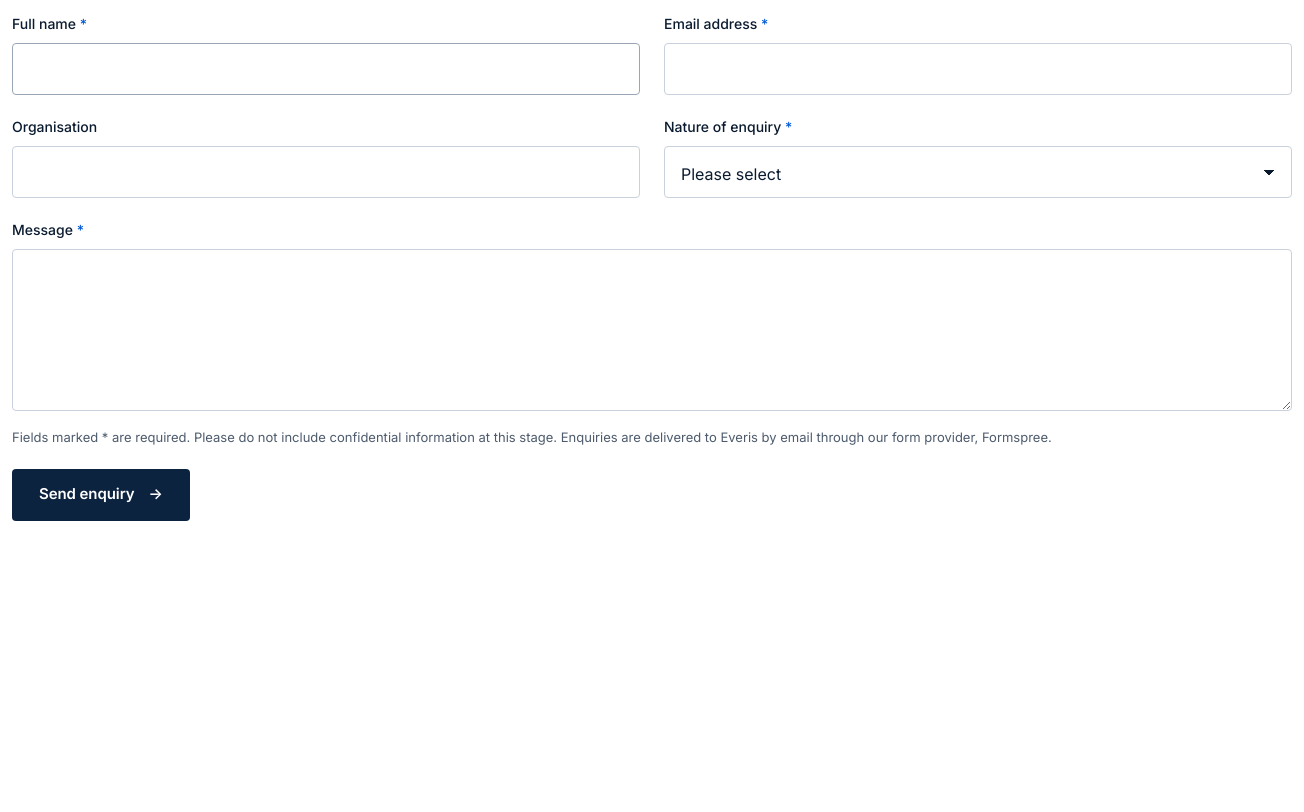
Test: enquiry form with a Formspree endpoint › posts the enquiry, confirms it and clears the form
This screenshot has width=1304, height=812.
Type "Ada Obi" into the field labelled "Full name *" at (326, 69), box [12,43,640,95]
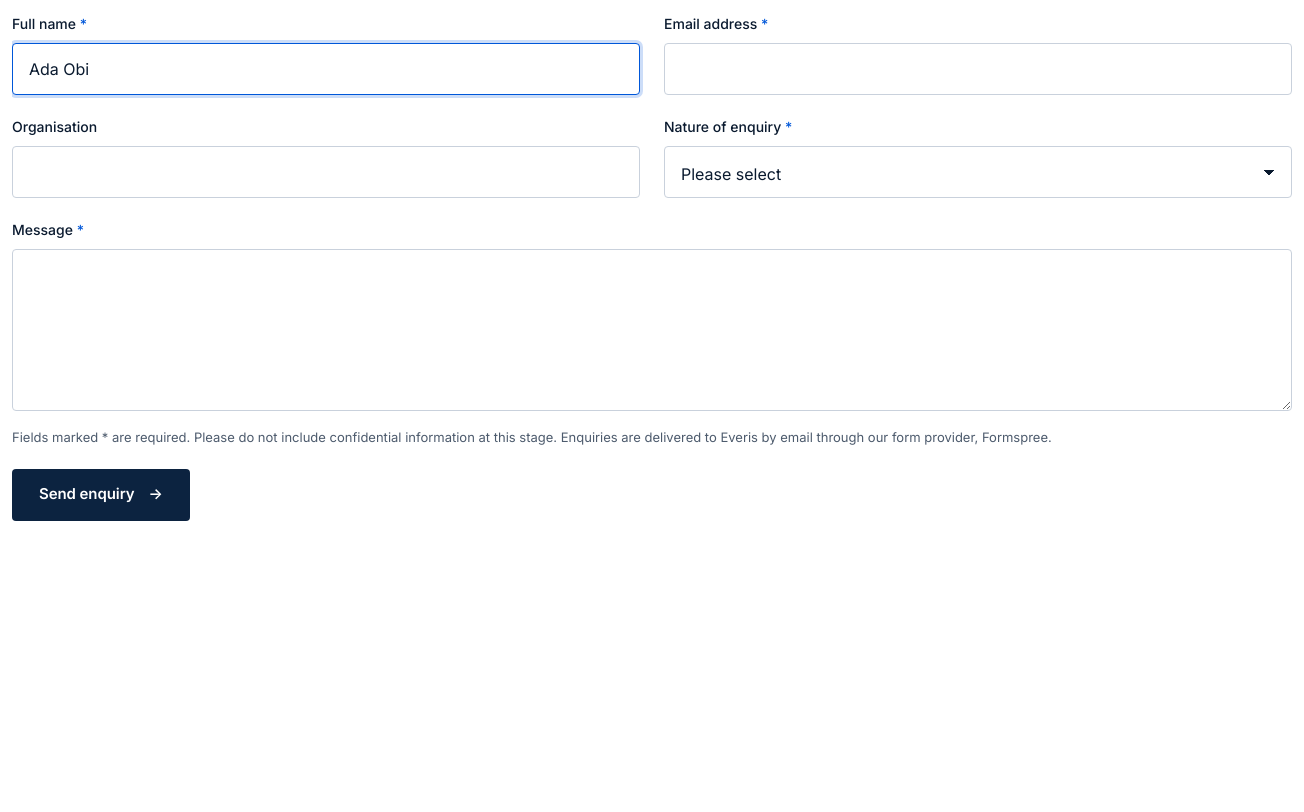
Type "ada@example.com" into the field labelled "Email address *" at (978, 69), box [664,43,1292,95]
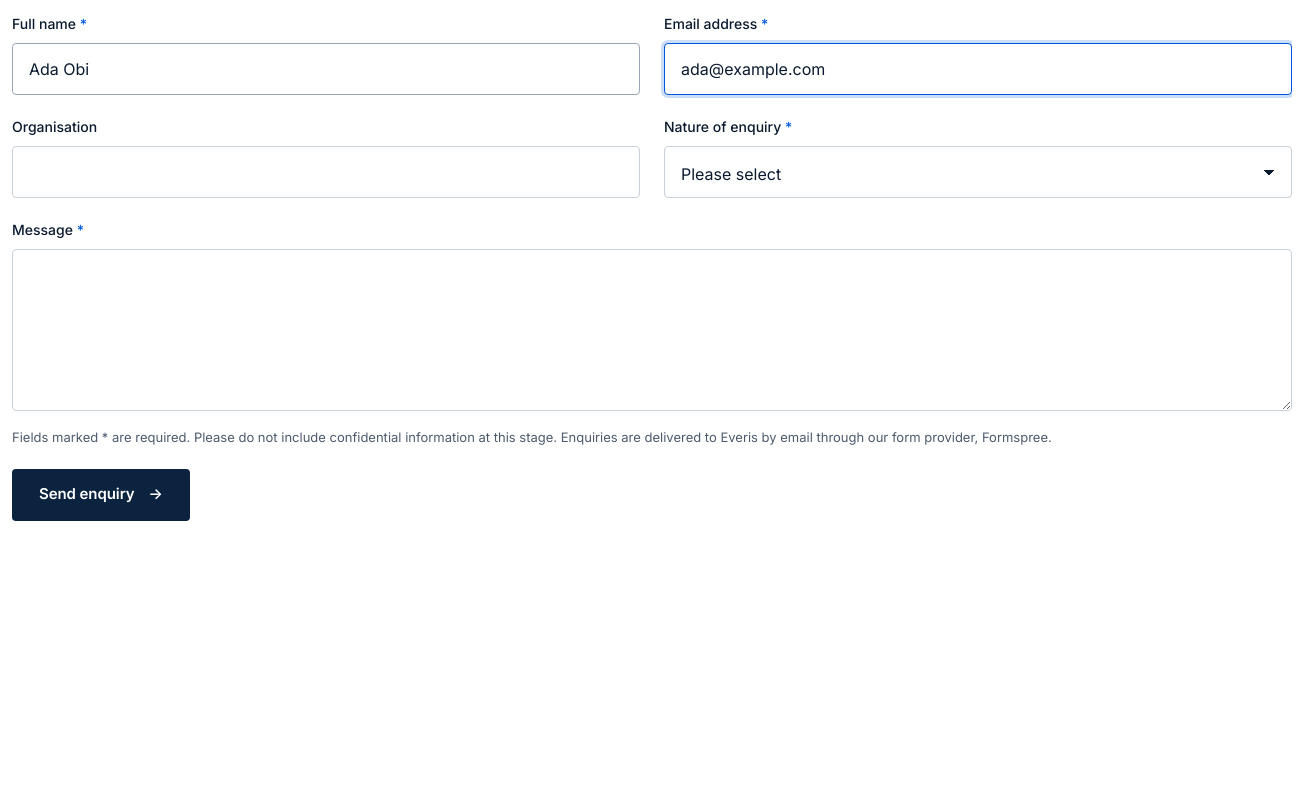
Select "Project proposal" in the dropdown labelled "Nature of enquiry *" at (978, 172), box [664,146,1292,198]
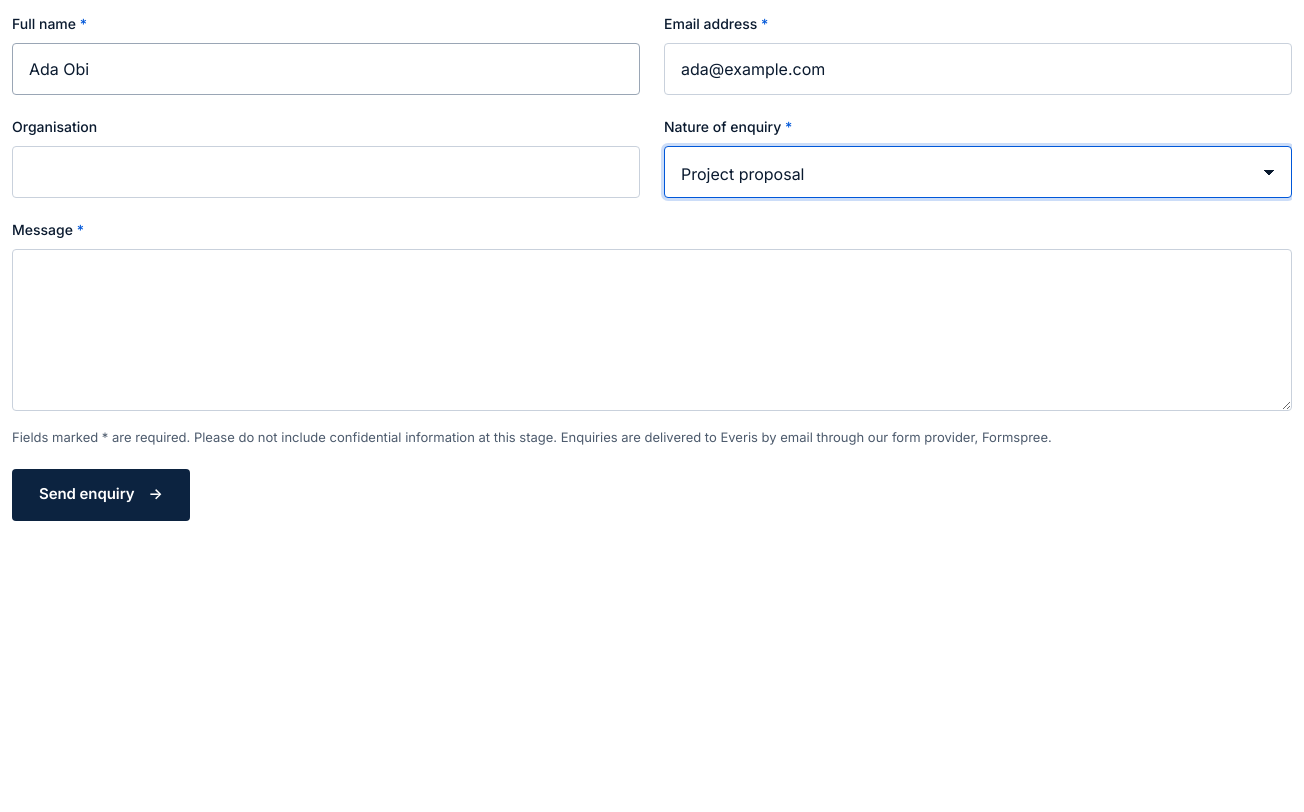
Type "A 20 MW solar site." into the text box labelled "Message *" at (652, 330), box [12,249,1292,411]
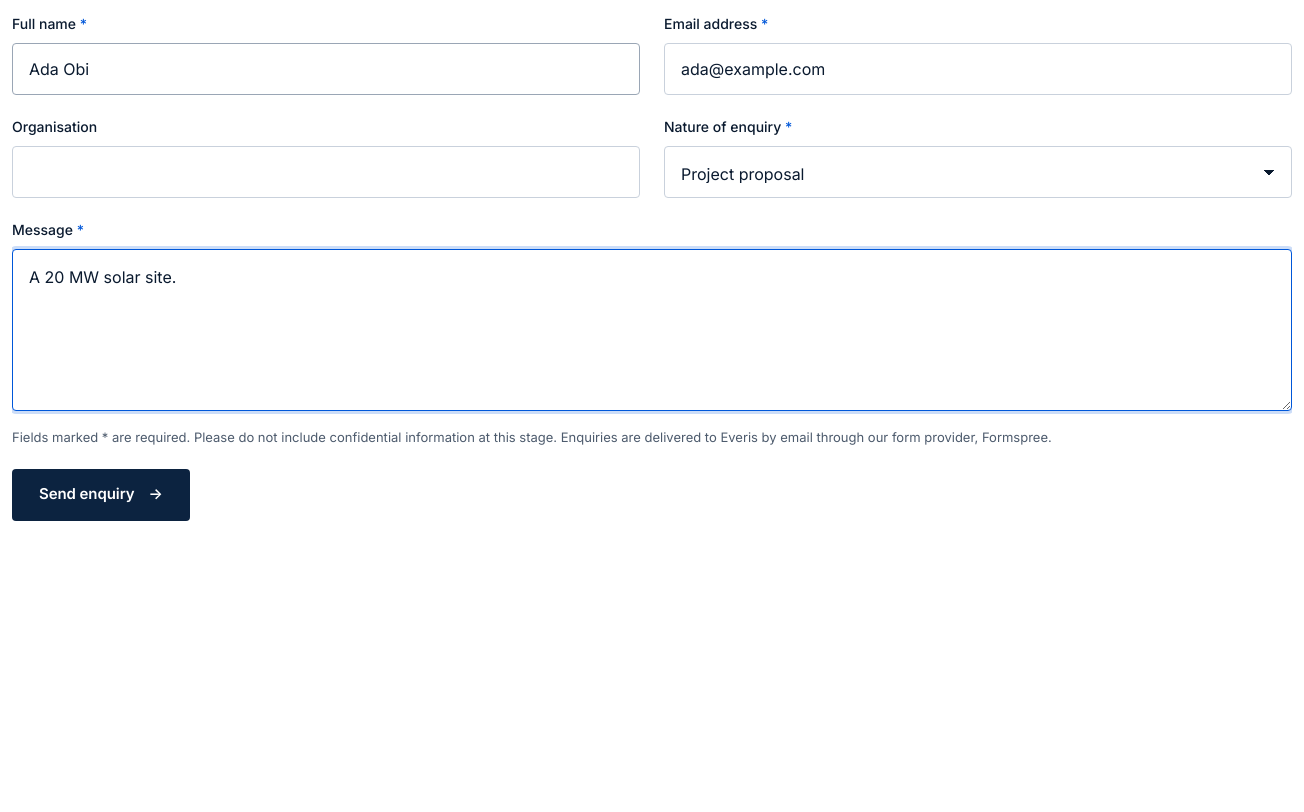
Click the button "Send enquiry →" at (101, 495), box [12,469,190,521]
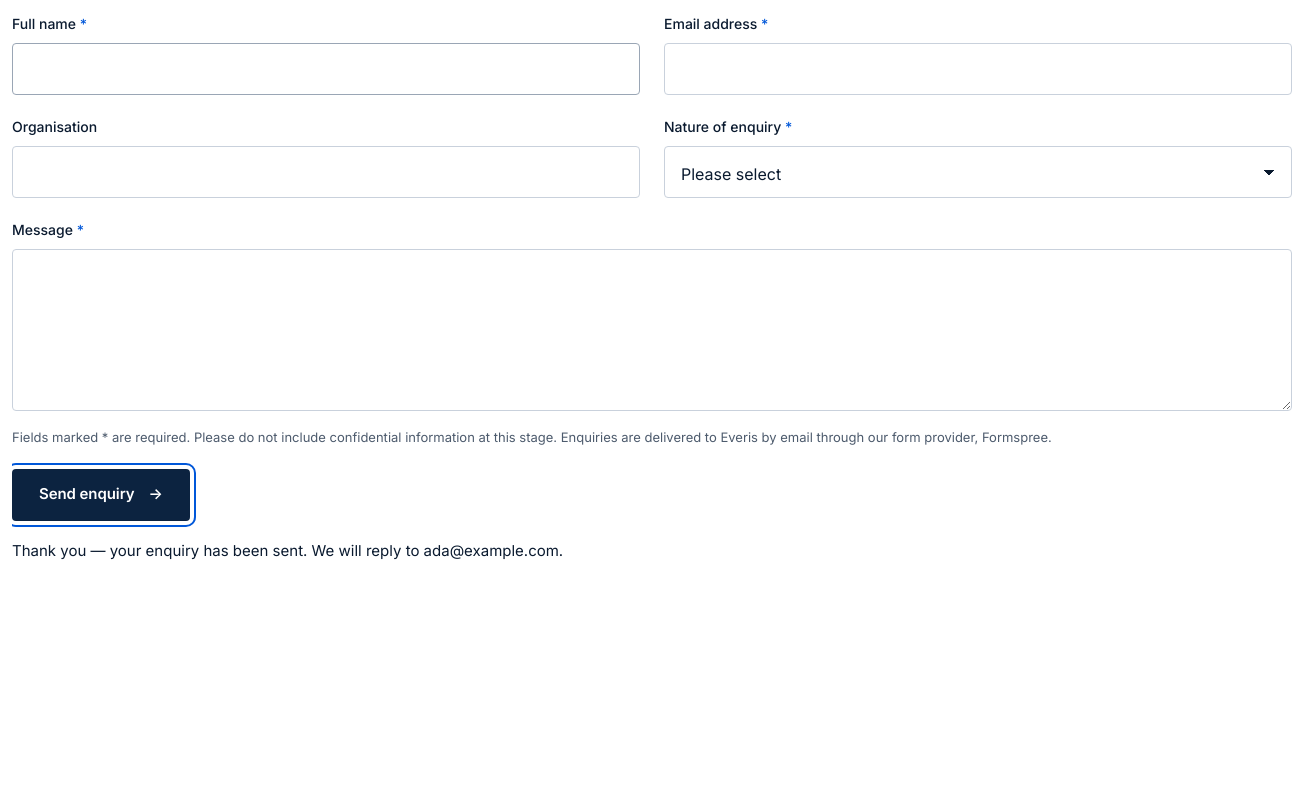
Check: the text "Thank you — your enquiry has been sent. We will reply to ada@example.com." is shown, box [12,541,563,560]
Check: the field labelled "Full name *" is empty, box [12,43,640,95]
